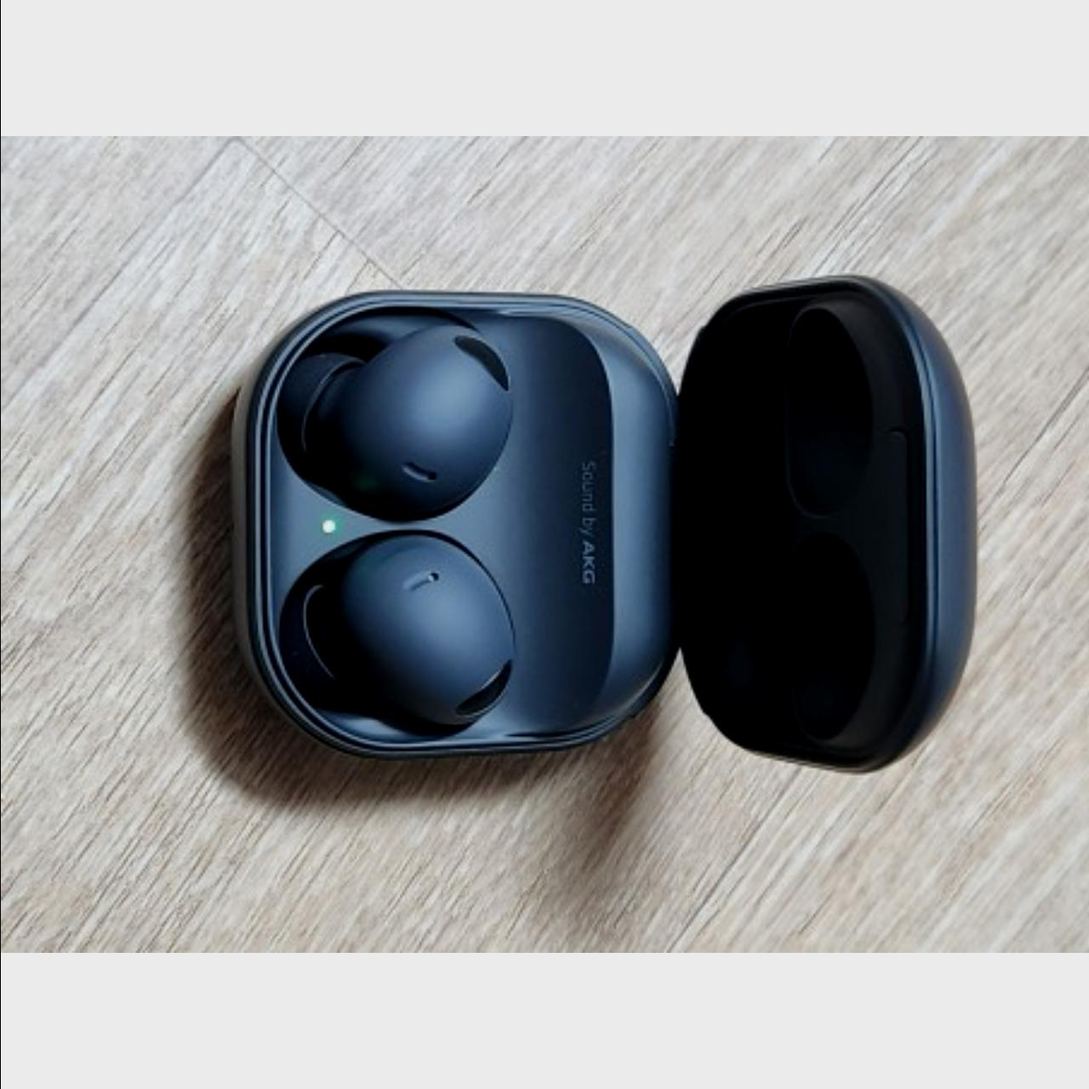Buds: (220, 268, 977, 777)
Buds_Units: (262, 309, 519, 527), (274, 527, 526, 747)
